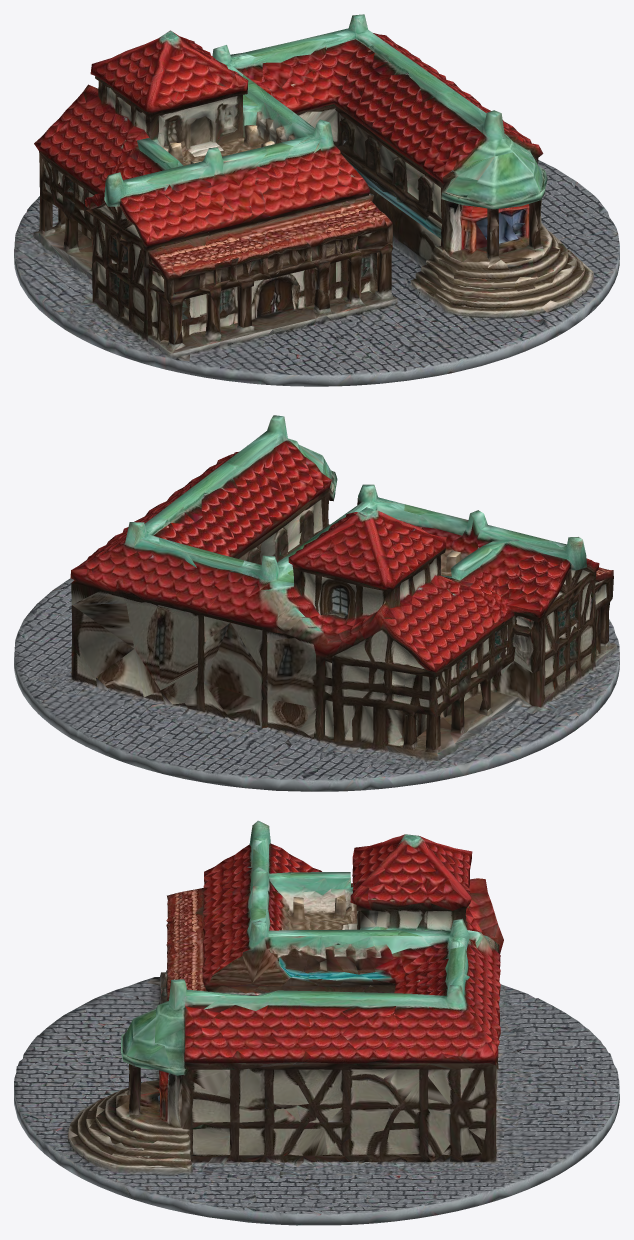
File: teatro.glb
The picture shows the model from 3 angles, top to bottom: view 1: azimuth 30°, elevation 25°; view 2: azimuth 150°, elevation 25°; view 3: azimuth 270°, elevation 25°; orthographic projection.
Size of the model in its own units: 1.9 by 0.7376 by 1.9.
Materials: 1 (1 with a texture image).
